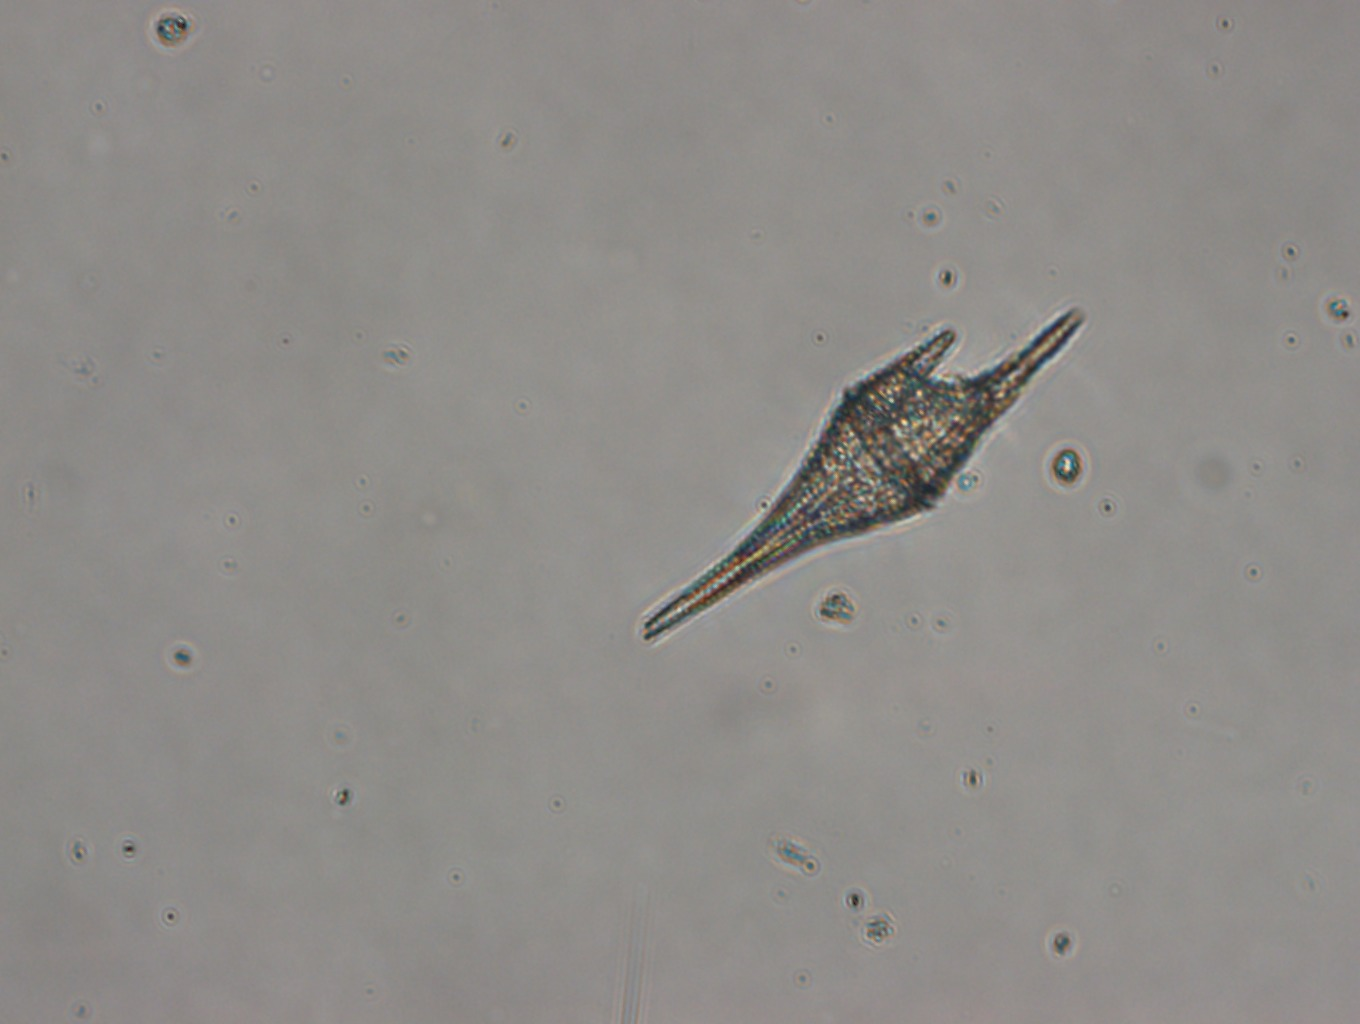ceratium furca: (631, 301, 1090, 646)
